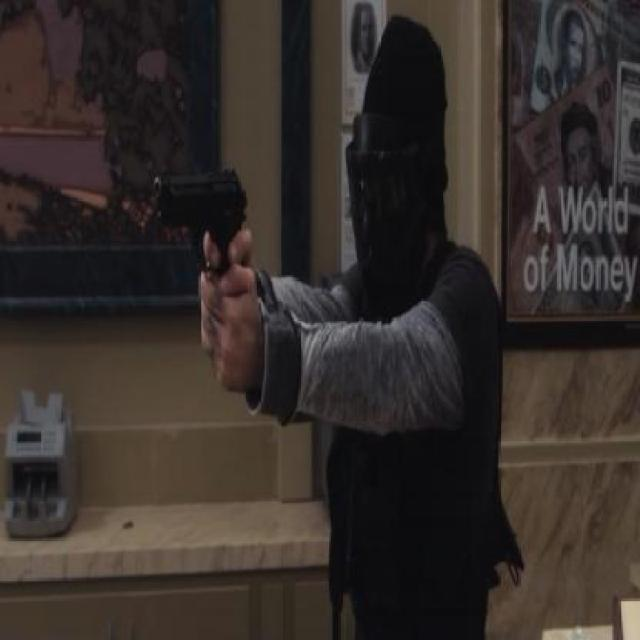gun: (132, 144, 255, 304)
